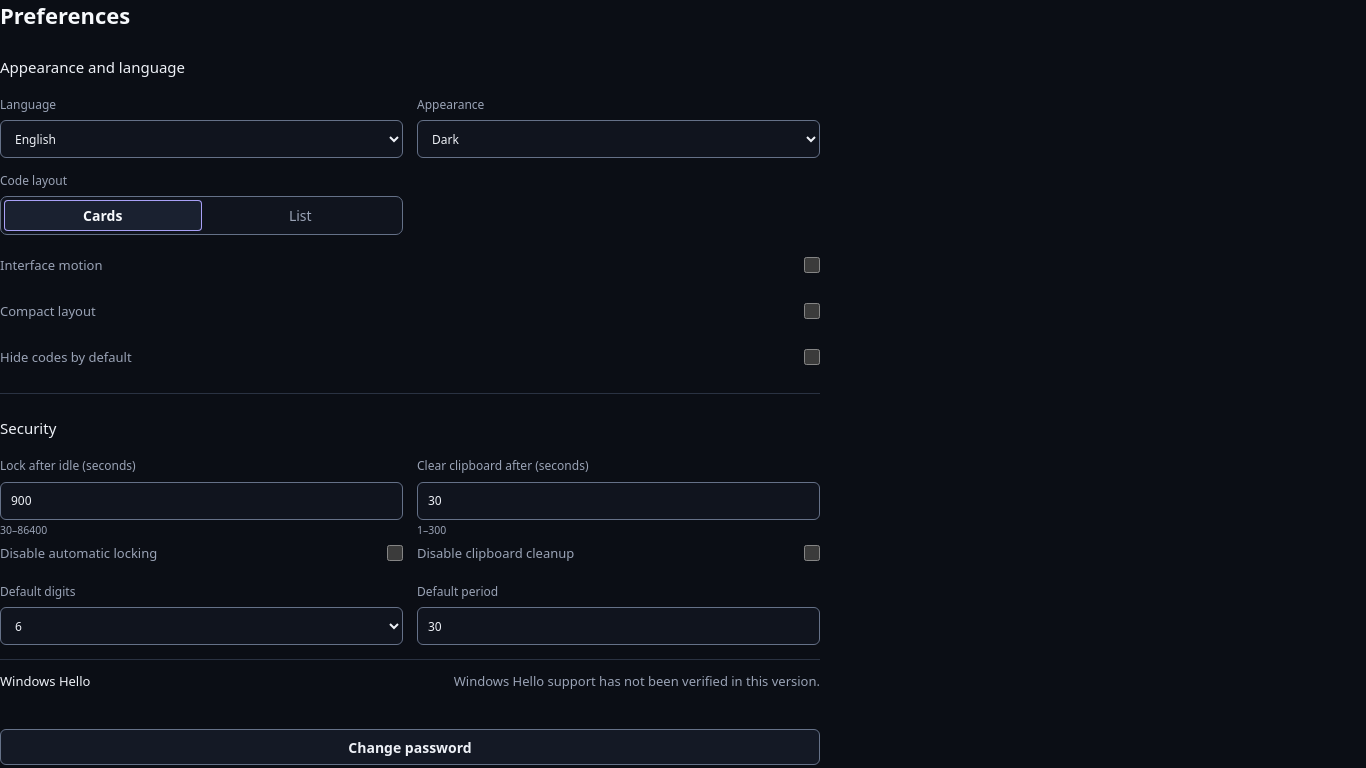
Test case: password modal › isolates the whole background including new body portals and restores previous inert attributes before returning focus
This screenshot has width=1366, height=768.
Click the button "Change password": (410, 748) x1=0 y1=730 x2=820 y2=766
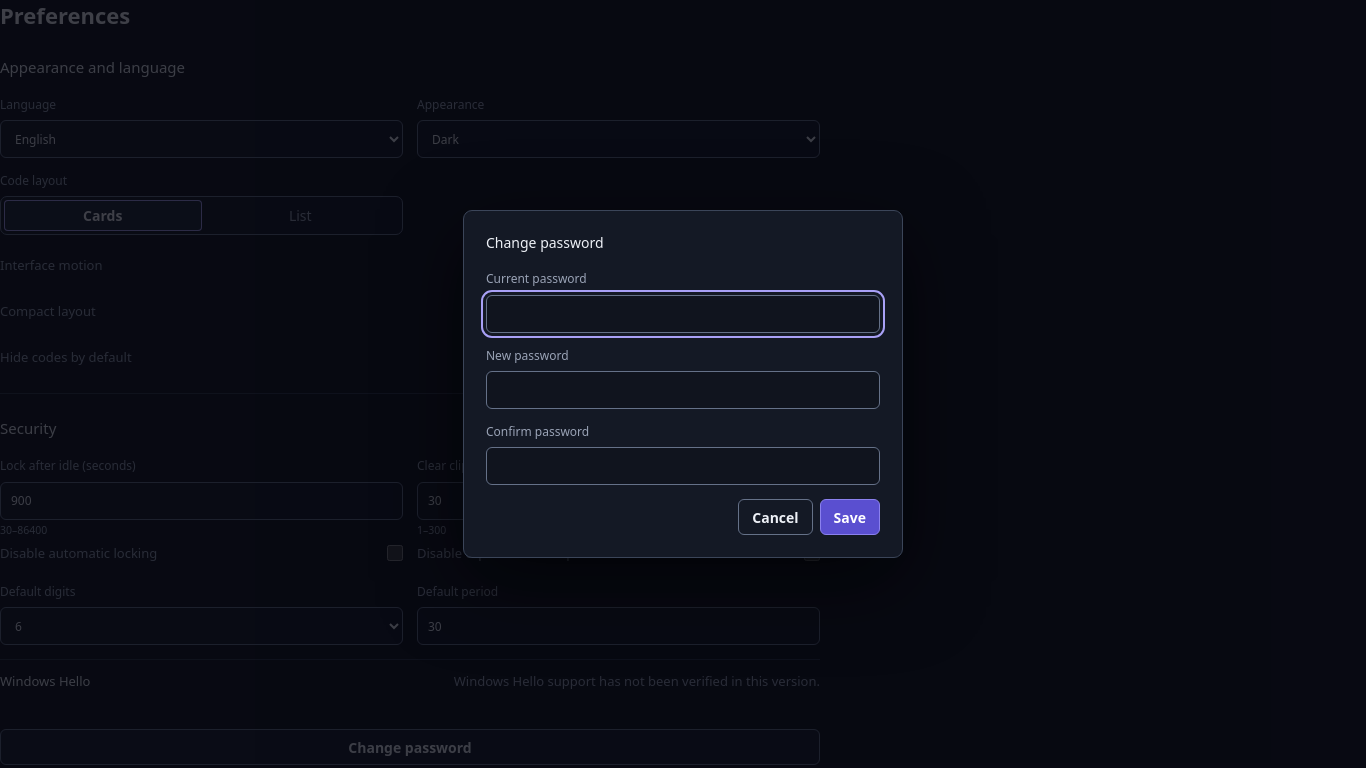
Press Escape in the dialog, box x1=463 y1=210 x2=903 y2=558
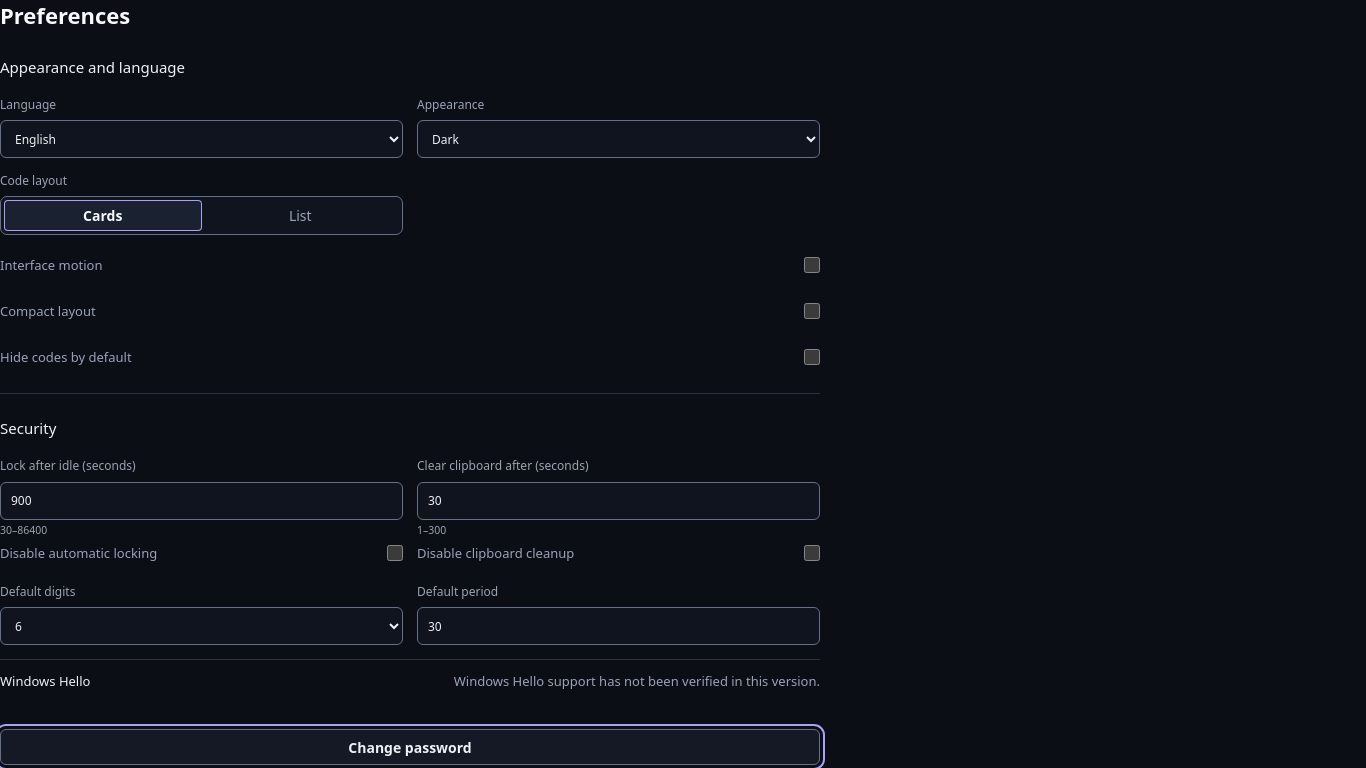
Check: the dialog is gone
